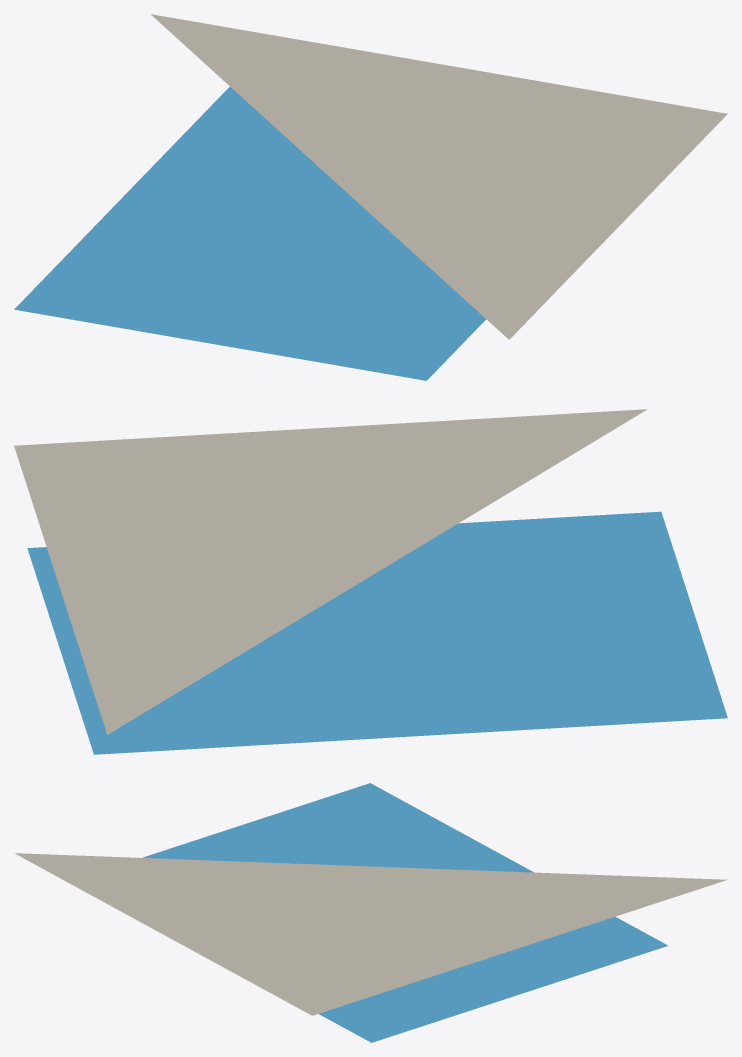
The picture shows the model from 3 angles, top to bottom: view 1: azimuth 30°, elevation 25°; view 2: azimuth 150°, elevation 25°; view 3: azimuth 270°, elevation 25°; orthographic projection. The views are drawn at different scales.
Parts seen in each view (by area): view 1: estructura_terreno, estructura_agua; view 2: estructura_agua, estructura_terreno; view 3: estructura_terreno, estructura_agua.
Boxes of the visible parts, x1,y1,x2,y2 form: estructura_terreno: (150, 14, 727, 339); estructura_agua: (14, 87, 485, 380); estructura_agua: (27, 511, 727, 754); estructura_terreno: (14, 409, 647, 734); estructura_terreno: (15, 853, 727, 1015); estructura_agua: (142, 783, 667, 1042).
Size of the model in its own units: 5.28 by 0.41 by 5.7.
